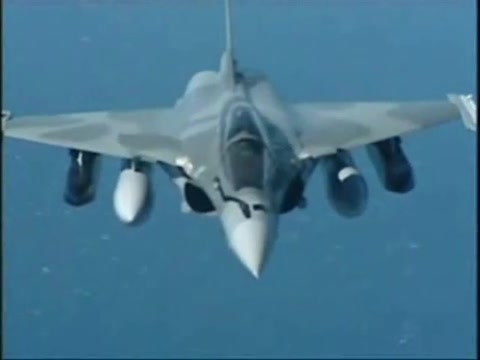aeroplane: (4, 4, 479, 284)
